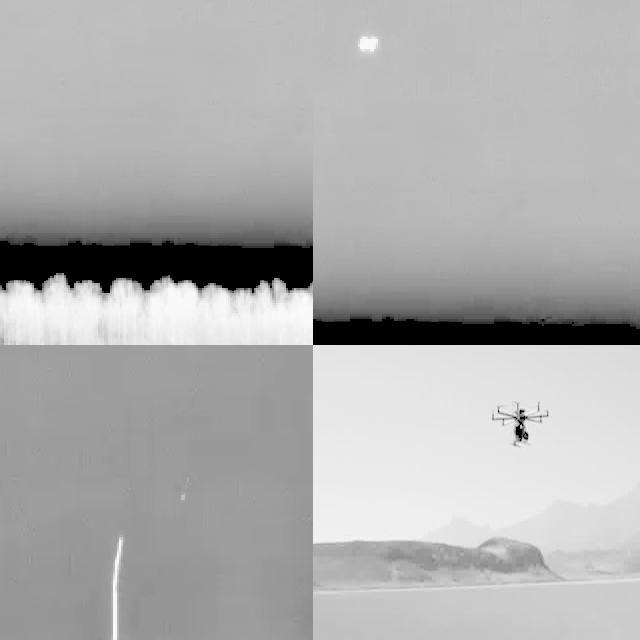0: (170, 480, 194, 512)
1: (348, 32, 386, 64)
drone: (489, 398, 552, 447)
